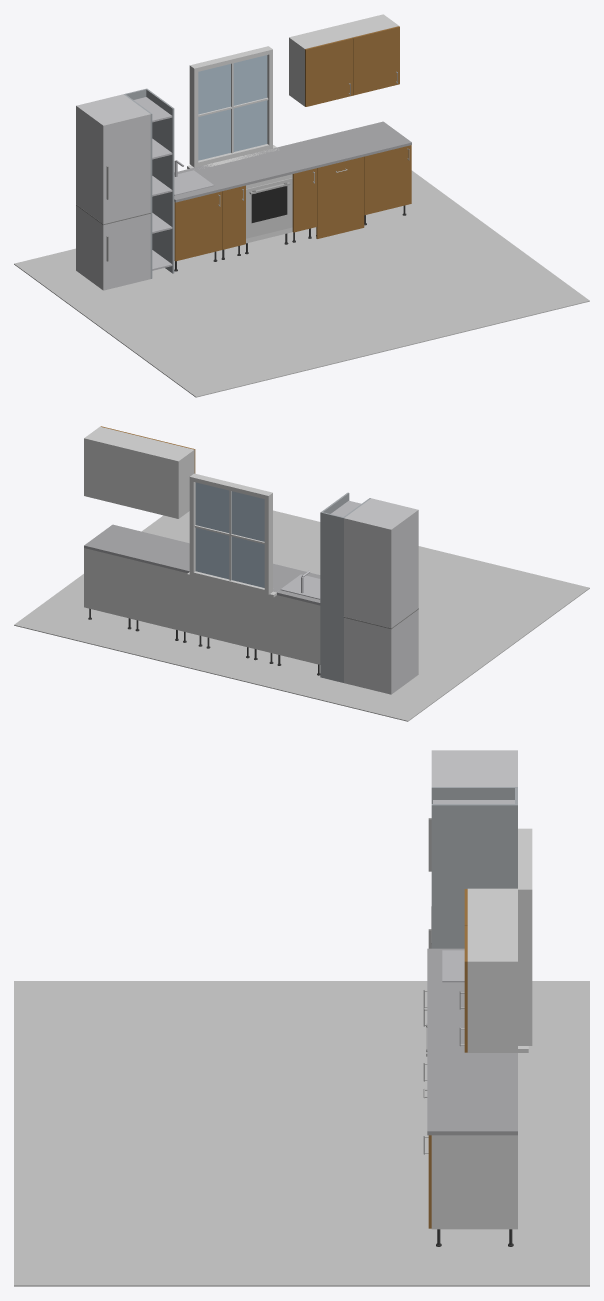
The model's file is hybrid_i_shape.glb.
3 renders of one model, top to bottom at view 1: azimuth 30°, elevation 25°; view 2: azimuth 150°, elevation 25°; view 3: azimuth 270°, elevation 25°, orthographic. The views are drawn at different scales.
Visible parts, largest first — view 1: world; view 2: world; view 3: world.
Part boxes in pixels (x1,y1,x2,y2): world: (14, 14, 589, 397); world: (14, 426, 589, 721); world: (14, 750, 589, 1286).
Size of the model in its own units: 500 by 221 by 400.
